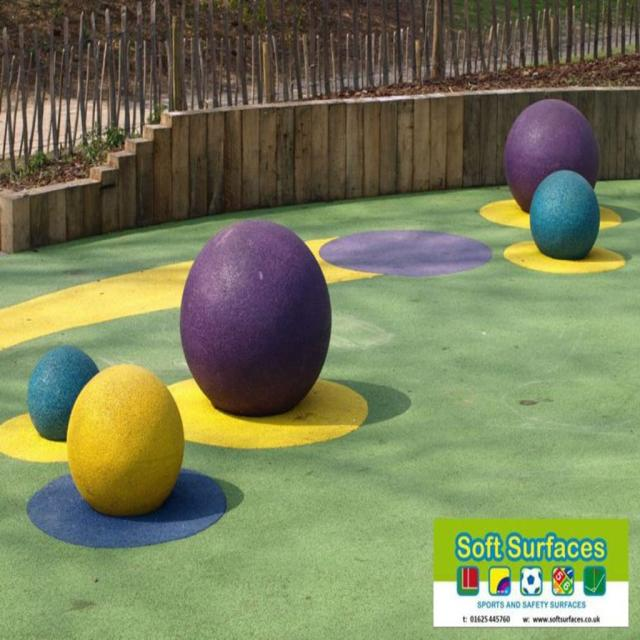Ball: (178, 218, 335, 420), (64, 360, 186, 518), (501, 98, 603, 215), (24, 341, 103, 444), (529, 166, 602, 264)
